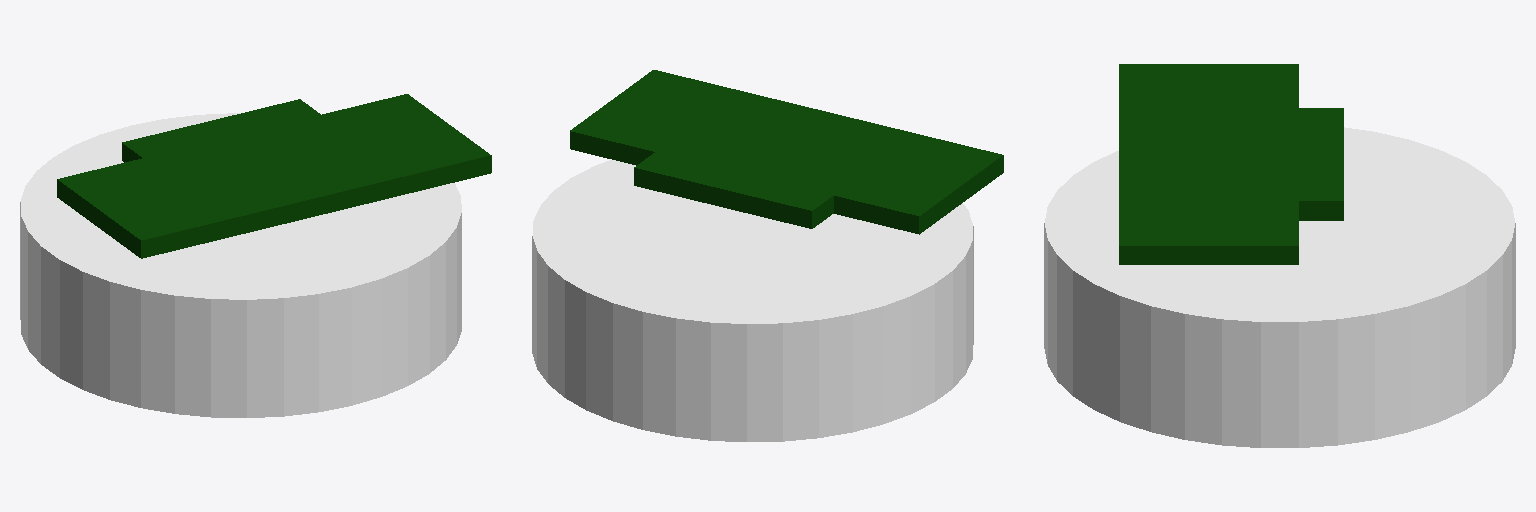
URDF robot description (greenRoomba):
<robot
  name="greenRoomba">
  <link
    name="base_link">
    <inertial>
      <origin
        xyz="0.227680465930077 -0.198821453525448 0.0729930531509659"
        rpy="0 0 0" />
      <mass
        value="5.1624984501461" />
      <inertia
        ixx="0.0281196009773752"
        ixy="-1.41715638575012E-50"
        ixz="-5.75248847065597E-35"
        iyy="0.0281196009773752"
        iyz="1.36275978151114E-18"
        izz="0.0503758921889559" />
    </inertial>
    <visual>
      <origin
        xyz="0 0 0"
        rpy="0 0 0" />
      <geometry>
        <mesh
          filename="package://greenRoomba/meshes/base_link.STL" />
      </geometry>
      <material
        name="">
        <color
          rgba="1 1 1 1" />
      </material>
    </visual>
    <collision>
      <origin
        xyz="0 0 0"
        rpy="0 0 0" />
      <geometry>
        <mesh
          filename="package://greenRoomba/meshes/base_link.STL" />
      </geometry>
    </collision>
  </link>
  <link
    name="roomba">
    <inertial>
      <origin
        xyz="2.77555756156289E-17 2.77555756156289E-17 0.041275"
        rpy="0 0 0" />
      <mass
        value="5.1624984501461" />
      <inertia
        ixx="0.0281196009773752"
        ixy="1.06492968917736E-50"
        ixz="-1.0524448184896E-34"
        iyy="0.0281196009773752"
        iyz="5.75248847065597E-35"
        izz="0.0503758921889559" />
    </inertial>
    <visual>
      <origin
        xyz="0 0 0"
        rpy="0 0 0" />
      <geometry>
        <mesh
          filename="package://greenRoomba/meshes/roomba.STL" />
      </geometry>
      <material
        name="">
        <color
          rgba="1 1 1 1" />
      </material>
    </visual>
    <collision>
      <origin
        xyz="0 0 0"
        rpy="0 0 0" />
      <geometry>
        <mesh
          filename="package://greenRoomba/meshes/roomba.STL" />
      </geometry>
    </collision>
  </link>
  <joint
    name="roomba"
    type="fixed">
    <origin
      xyz="0.227680465930077 -0.198821453525448 0.0317180531509659"
      rpy="0 6.12303176911189E-17 1.5707963267949" />
    <parent
      link="base_link" />
    <child
      link="roomba" />
    <axis
      xyz="0 0 0" />
  </joint>
  <link
    name="plate">
    <inertial>
      <origin
        xyz="-0.0455509281873409 0 0.00634999999999999"
        rpy="0 0 0" />
      <mass
        value="0.397662193585312" />
      <inertia
        ixx="0.00198664383002881"
        ixy="-8.69869762664421E-20"
        ixz="-5.27546505932778E-22"
        iyy="0.000519257899908292"
        iyz="-2.0796789672351E-21"
        izz="0.0024952119074032" />
    </inertial>
    <visual>
      <origin
        xyz="0 0 0"
        rpy="0 0 0" />
      <geometry>
        <mesh
          filename="package://greenRoomba/meshes/plate.STL" />
      </geometry>
      <material
        name="">
        <color
          rgba="0.0862745098039216 0.337254901960784 0.0627450980392157 1" />
      </material>
    </visual>
    <collision>
      <origin
        xyz="0 0 0"
        rpy="0 0 0" />
      <geometry>
        <mesh
          filename="package://greenRoomba/meshes/plate.STL" />
      </geometry>
    </collision>
  </link>
  <joint
    name="plate"
    type="fixed">
    <origin
      xyz="0.0111125 0.000183728388784277 0.1143"
      rpy="0 0 0" />
    <parent
      link="roomba" />
    <child
      link="plate" />
    <axis
      xyz="0 0 0" />
  </joint>
</robot>

--- Render facts (derived) ---
3 views of the same robot in one strip: view 1: azimuth 30°, elevation 25°; view 2: azimuth 150°, elevation 25°; view 3: azimuth 270°, elevation 25° (orthographic).
Robot: greenRoomba — 3 links, 2 joints (2 fixed); root link base_link; default pose: every joint at zero.
Visible links, largest first — view 1: base_link, plate; view 2: base_link, plate; view 3: base_link, plate.
Link boxes in pixels (left/top/right/bottom): base_link: left=20, top=113, right=461, bottom=417; plate: left=57, top=94, right=491, bottom=258; base_link: left=532, top=160, right=973, bottom=441; plate: left=570, top=70, right=1003, bottom=234; base_link: left=1044, top=127, right=1515, bottom=447; plate: left=1119, top=64, right=1343, bottom=264.
Bounding box of the posed robot: 0.2784 × 0.2794 × 0.127 m (x, y, z).
Meshes: 3 distinct files referenced, 3 mesh visuals loaded (3 binary STL).